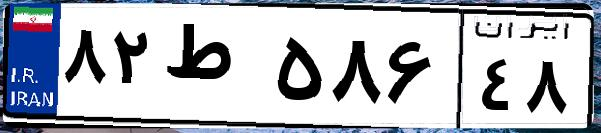2: (110, 28, 158, 98)
4: (475, 38, 525, 113)
5: (270, 28, 330, 110)
6: (385, 28, 445, 110)
8: (330, 28, 385, 110), (57, 26, 110, 100), (525, 38, 570, 115)
ط: (158, 20, 270, 120)
